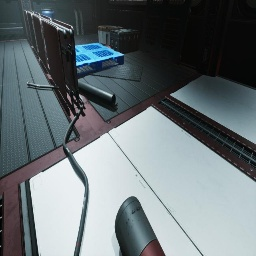FireExtinguisher ]: (105, 45, 115, 54)
NitrogenTank ,: (114, 196, 166, 256)
